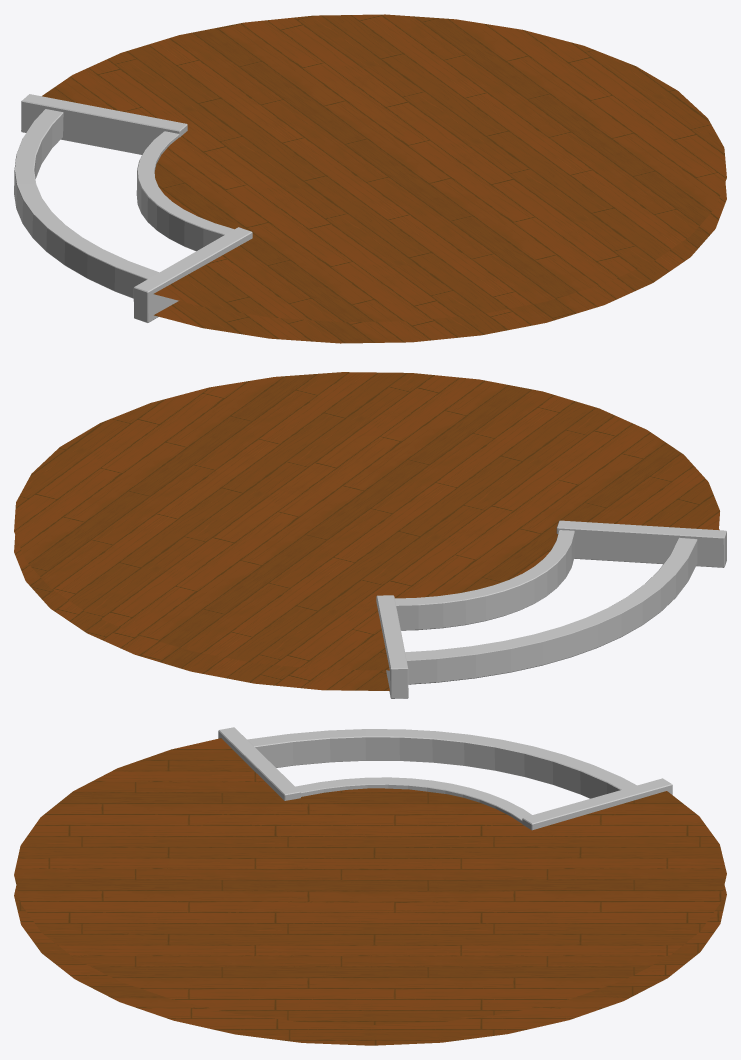
File: SM_FloorWood_01.fbx
The picture shows the model from 3 angles, top to bottom: view 1: azimuth 30°, elevation 25°; view 2: azimuth 150°, elevation 25°; view 3: azimuth 270°, elevation 25°; orthographic projection. The views are drawn at different scales.
Visible parts, largest first — view 1: SM_FloorWood_01; view 2: SM_FloorWood_01; view 3: SM_FloorWood_01.
Part boxes in pixels (bbox=[...]): SM_FloorWood_01: bbox=[14, 14, 726, 343]; SM_FloorWood_01: bbox=[14, 372, 726, 698]; SM_FloorWood_01: bbox=[14, 727, 726, 1045].
Bounding box in the file's own units: 12.22 × 0.6286 × 12.53.
